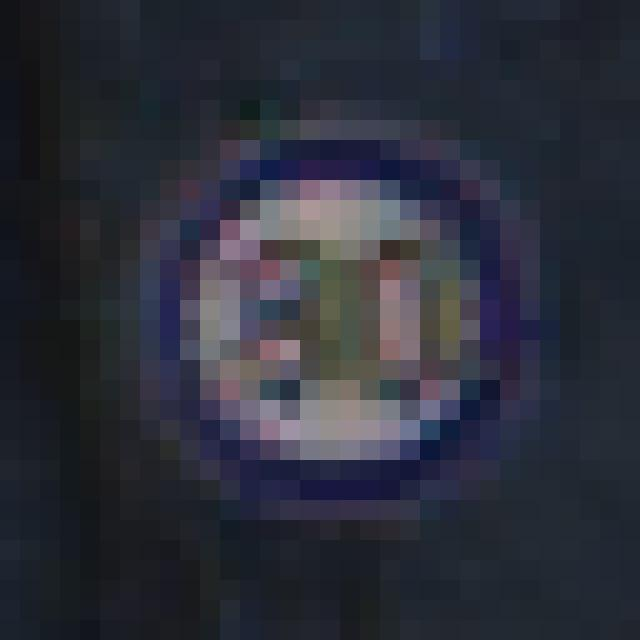SPEED-LIMIT-80: (127, 128, 536, 510)
